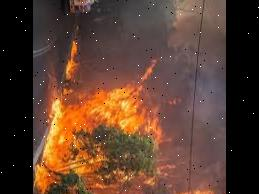fire: (32, 49, 226, 194)
